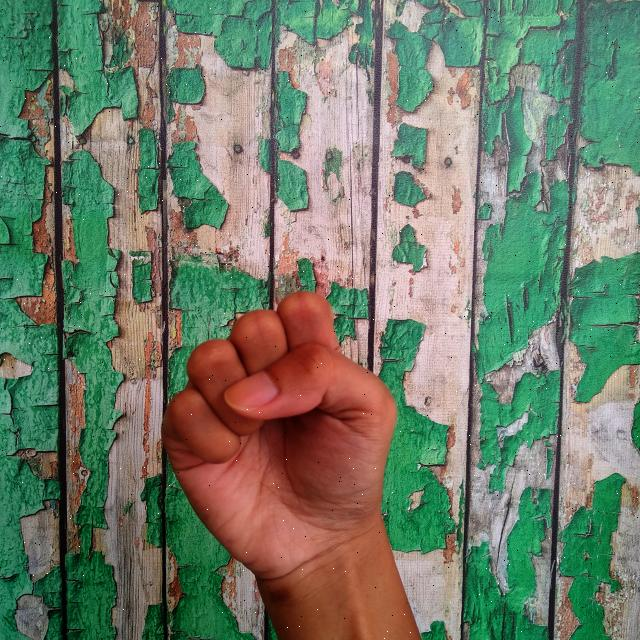S: (154, 282, 424, 640)
